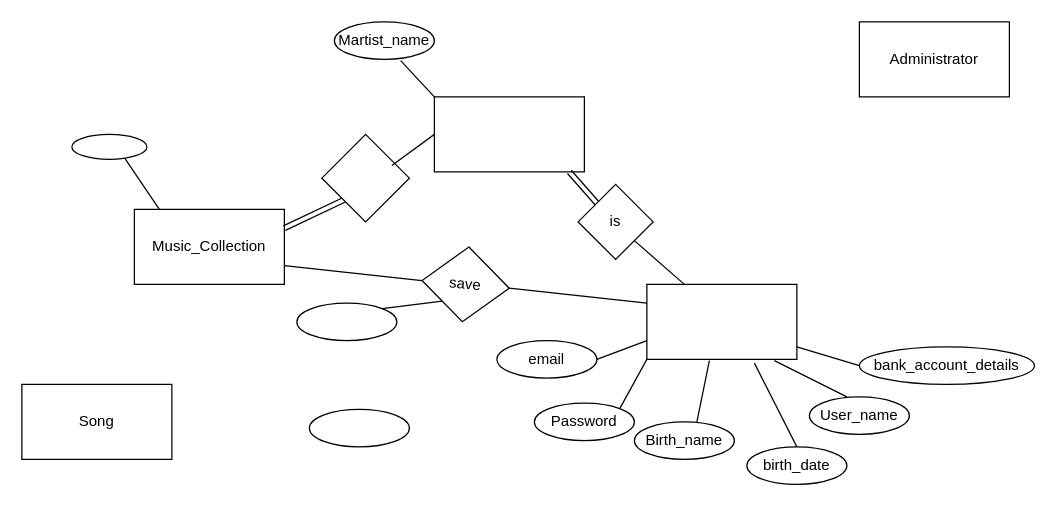
The diagram is 1056 pixels wide and 506 high, and some of its shapes have lost their labels. Here are the shapes that lost their labels. From the top down, the box of each, then its label:
(71, 133, 147, 159): Ctype
(433, 96, 584, 172): Musician
(321, 133, 409, 222): create
(296, 302, 397, 341): bought_music
(646, 283, 797, 359): User
(308, 408, 409, 447): share
